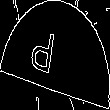P_S: (40, 26, 70, 84)
